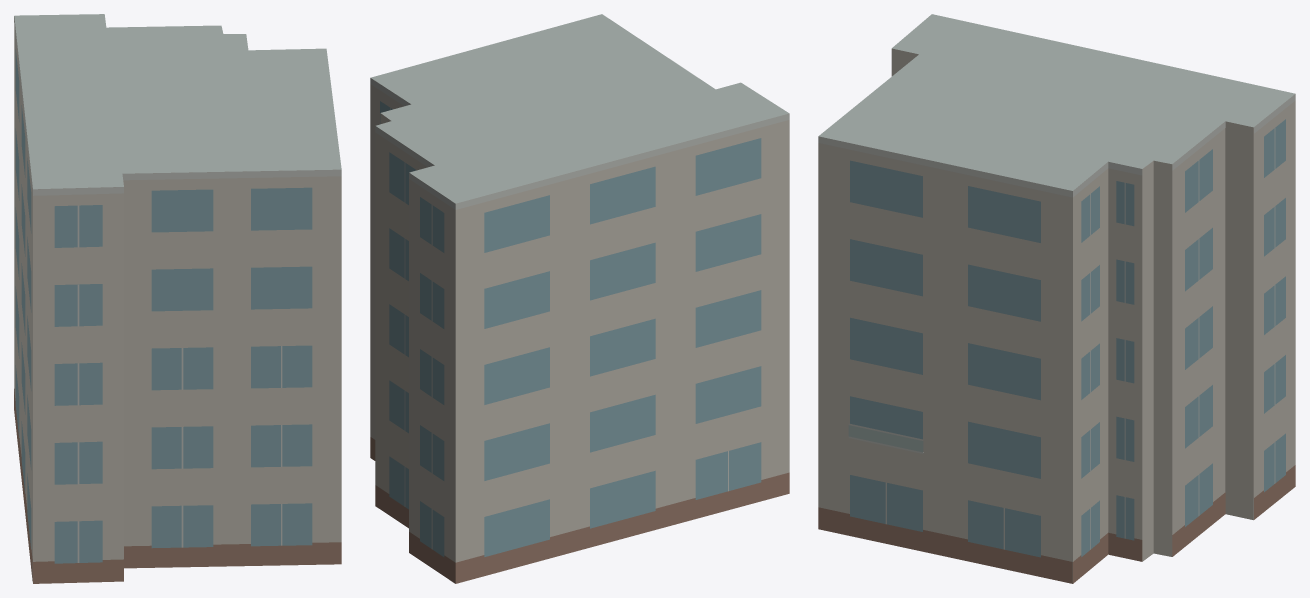
The model's file is survey-upis-32633243.glb.
The picture shows the model from 3 angles, left to right: view 1: azimuth 30°, elevation 25°; view 2: azimuth 150°, elevation 25°; view 3: azimuth 270°, elevation 25°; orthographic projection. The views are drawn at different scales.
Visible parts, largest first — view 1: survey-upis-32633243.tmp; view 2: survey-upis-32633243.tmp; view 3: survey-upis-32633243.tmp.
Boxes of the visible parts, box(x1,y1,x2,y2) form: survey-upis-32633243.tmp: box(14, 14, 341, 583); survey-upis-32633243.tmp: box(370, 14, 789, 583); survey-upis-32633243.tmp: box(818, 14, 1295, 583).
Bounding box in the file's own units: 14.12 × 14.6 × 16.09.
